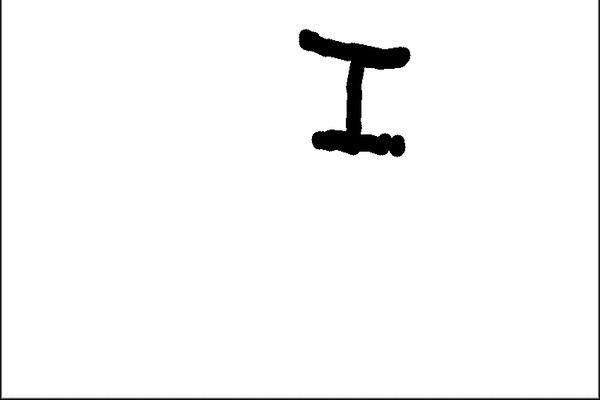i: (291, 8, 423, 166)
